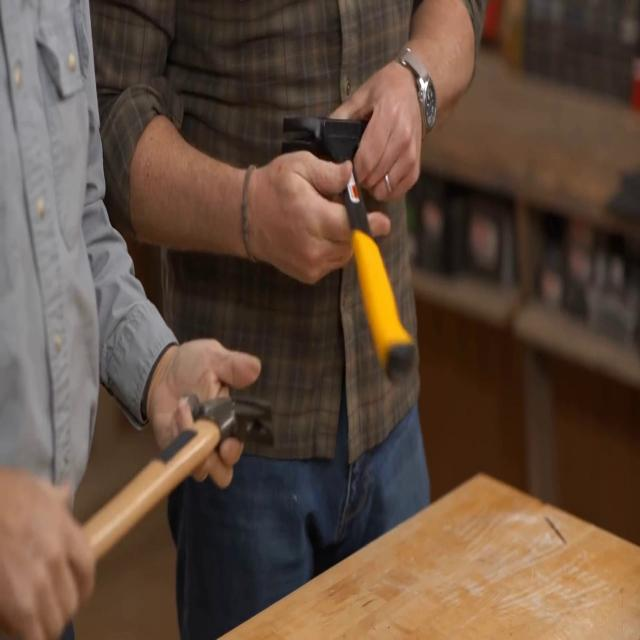hammer: (282, 115, 414, 383), (84, 396, 274, 560)
